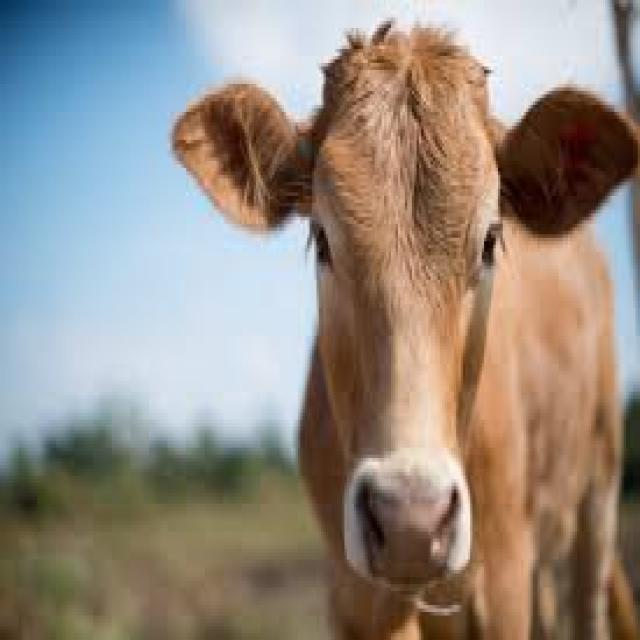cow: (267, 54, 489, 594)
